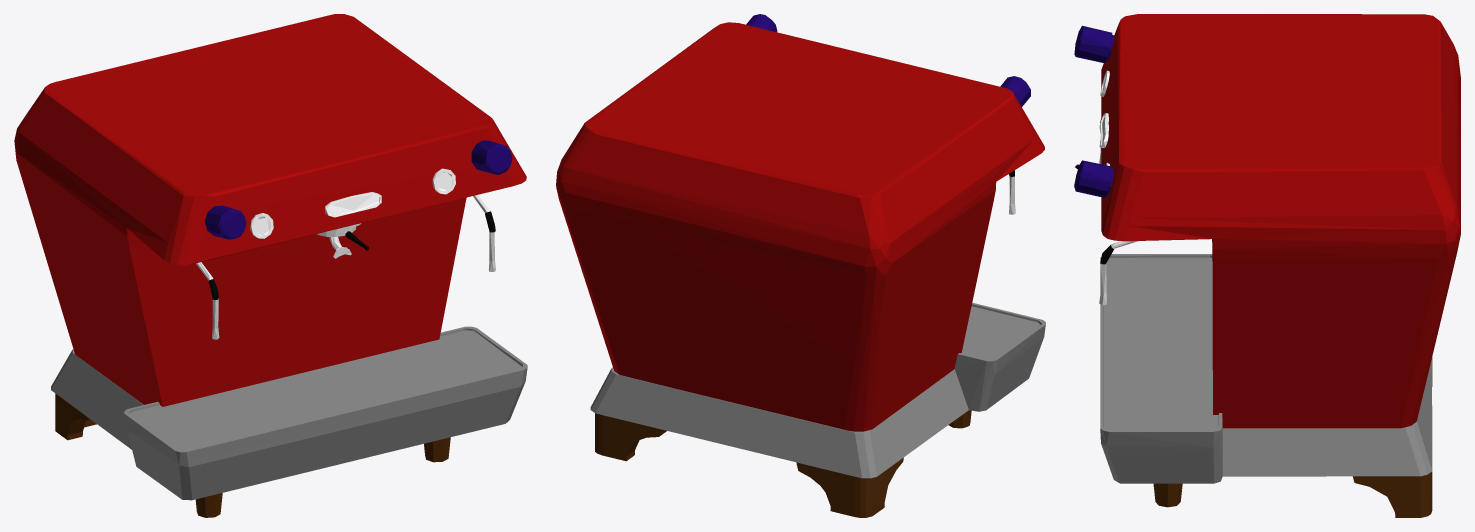
The picture shows the model from 3 angles, left to right: view 1: azimuth 30°, elevation 25°; view 2: azimuth 150°, elevation 25°; view 3: azimuth 270°, elevation 25°; orthographic projection. The views are drawn at different scales.
Parts seen in each view (by area): view 1: cafetera001; view 2: cafetera001; view 3: cafetera001.
Boxes of the visible parts, x1,y1,x2,y2 form: cafetera001: [14, 14, 527, 517]; cafetera001: [556, 14, 1045, 517]; cafetera001: [1074, 14, 1460, 517].
Bounding box in the file's own units: 48.44 × 43.98 × 43.65.
